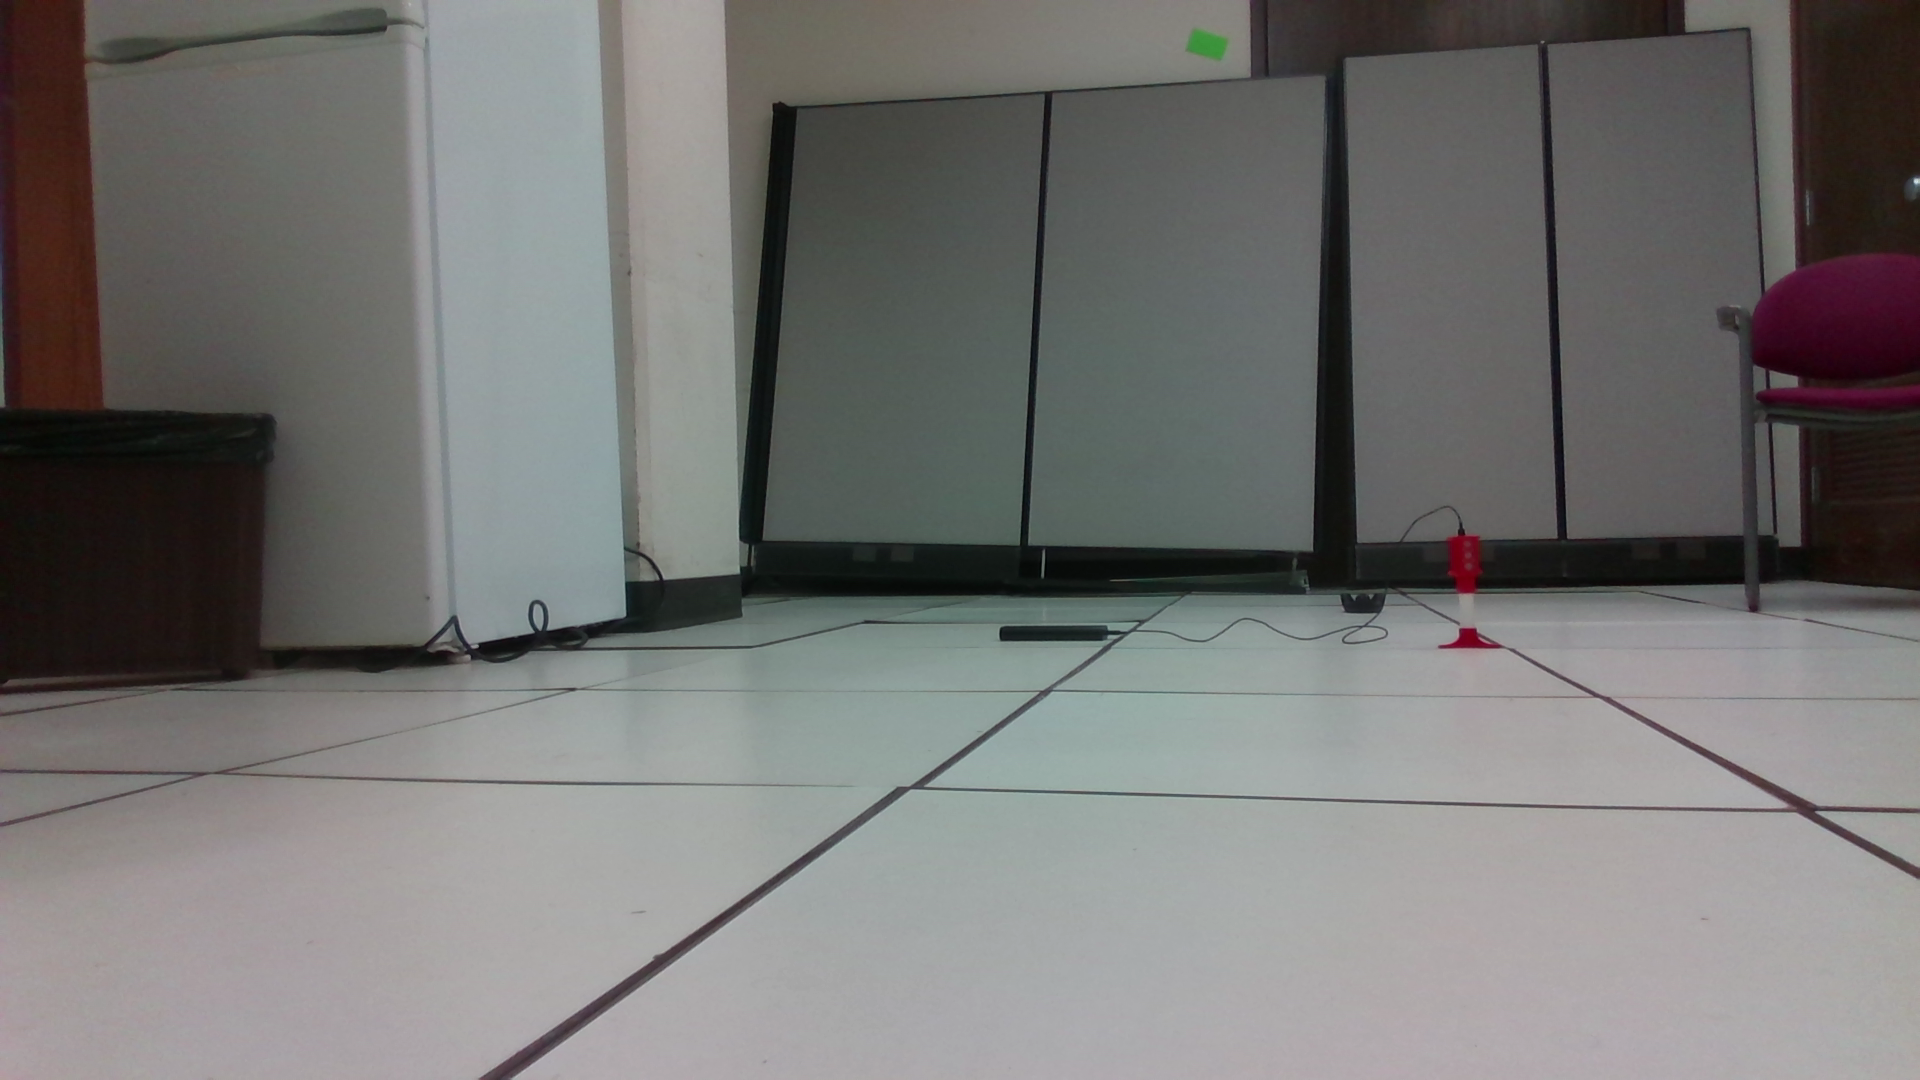stoplight: (1445, 534, 1485, 593)
